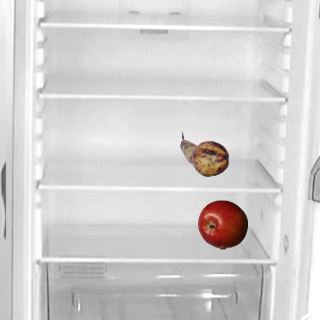Apple Braeburn: (197, 199, 247, 249)
Pear Abate: (179, 129, 229, 179)
